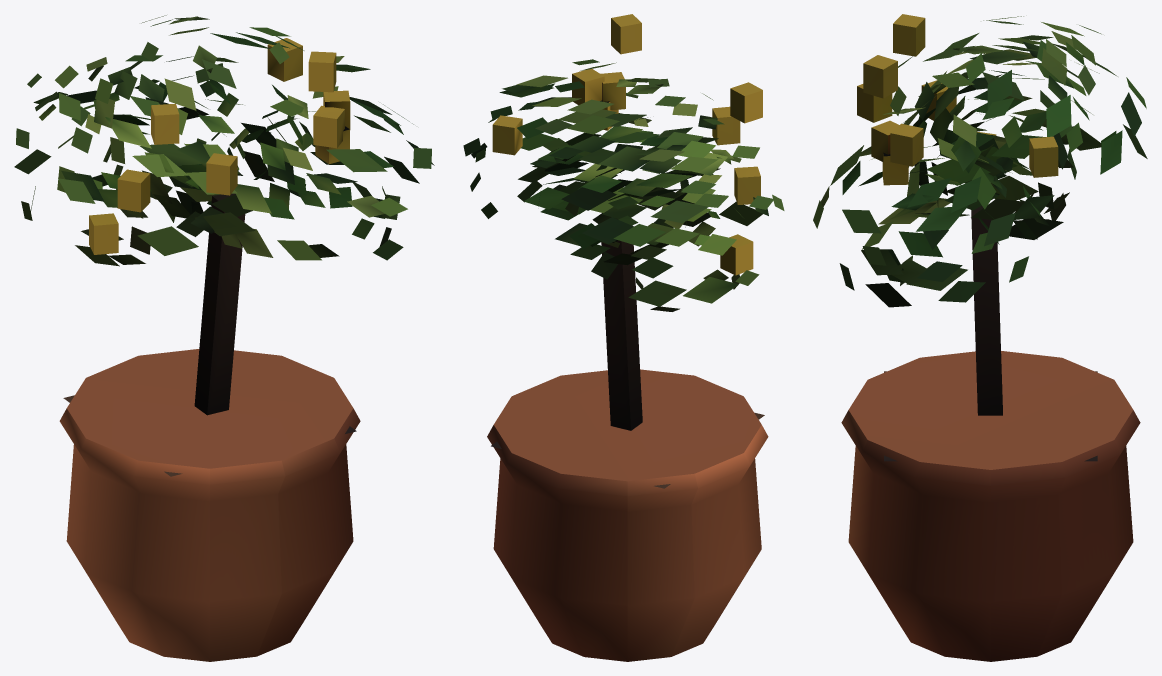
Rendered from maceta_limonero.glb.
3 views of the same model, side by side, from view 1: azimuth 30°, elevation 25°; view 2: azimuth 150°, elevation 25°; view 3: azimuth 270°, elevation 25° (orthographic). The views are drawn at different scales.
Parts seen in each view (by area): view 1: maceta_limonero_piezas, maceta_limonero_vegetacion; view 2: maceta_limonero_piezas, maceta_limonero_vegetacion; view 3: maceta_limonero_piezas, maceta_limonero_vegetacion.
Part boxes in pixels (x1,y1,x2,y2): maceta_limonero_piezas: (59,38,360,661); maceta_limonero_vegetacion: (14,15,434,266); maceta_limonero_piezas: (487,14,768,661); maceta_limonero_vegetacion: (463,59,784,311); maceta_limonero_piezas: (841,14,1140,661); maceta_limonero_vegetacion: (813,16,1147,307).
Bounding box in the file's own units: 1.16 × 1.82 × 0.9407.
